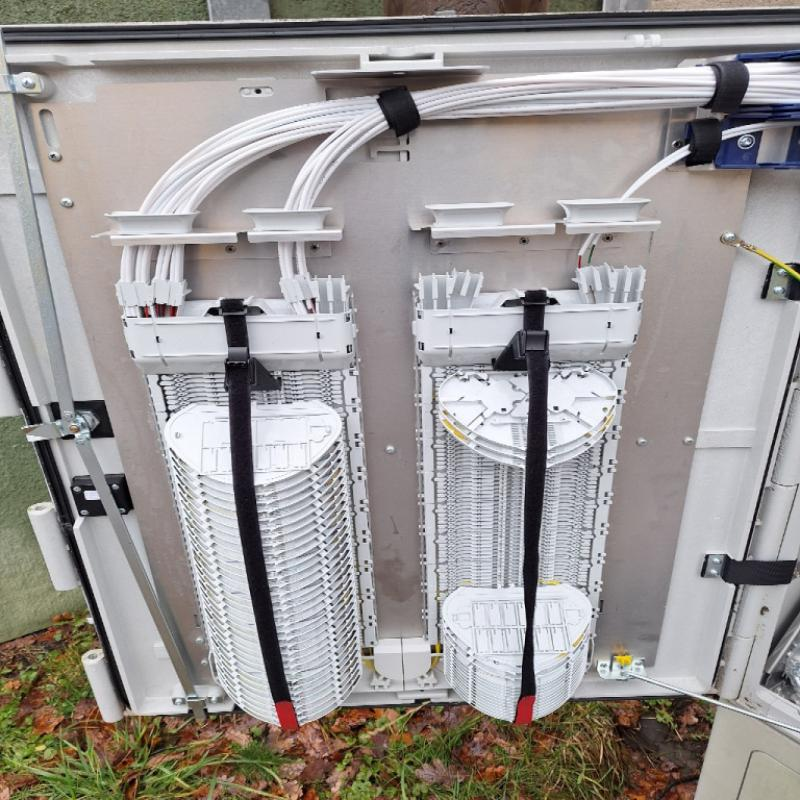NT-Gehause: (0, 12, 800, 800)
Spleiskassetten: (94, 201, 384, 734), (411, 194, 655, 728)
